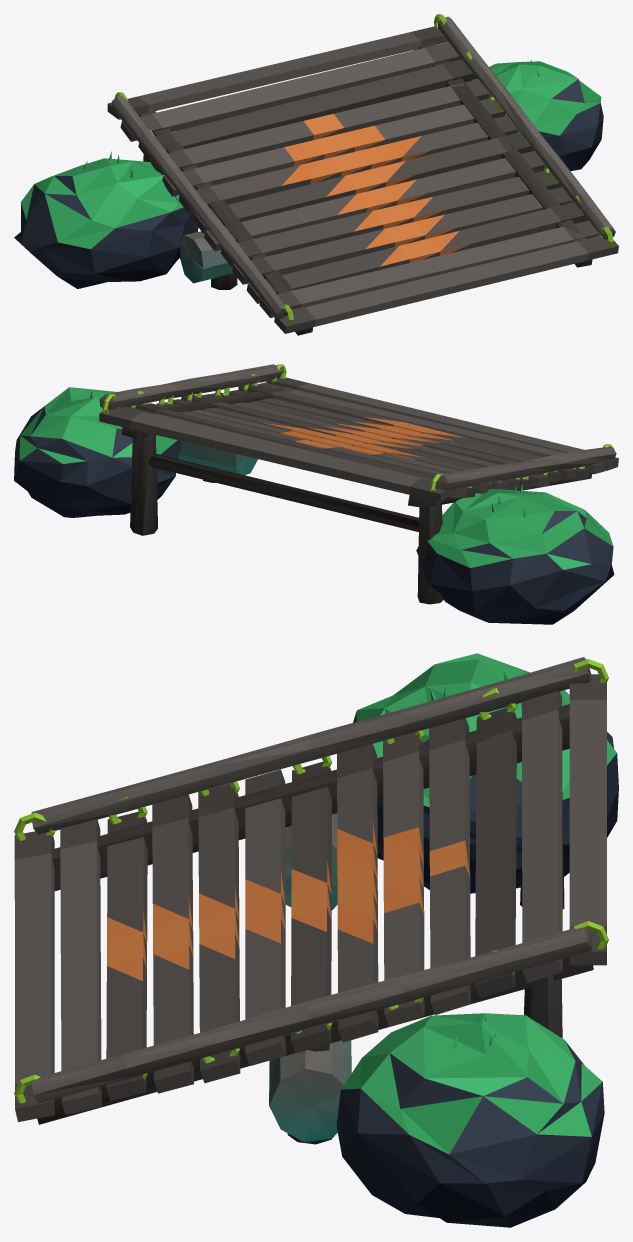
File: riverrush_short_ramp_mossy_414754.glb
The picture shows the model from 3 angles, top to bottom: view 1: azimuth 30°, elevation 25°; view 2: azimuth 150°, elevation 25°; view 3: azimuth 270°, elevation 25°; orthographic projection. The views are drawn at different scales.
Visible parts, largest first — view 1: Tanjakan_Jumping_Pendek; view 2: Tanjakan_Jumping_Pendek; view 3: Tanjakan_Jumping_Pendek.
Part boxes in pixels (x1,y1,x2,y2): Tanjakan_Jumping_Pendek: [14, 14, 618, 335]; Tanjakan_Jumping_Pendek: [14, 364, 618, 624]; Tanjakan_Jumping_Pendek: [14, 653, 618, 1227].
Size of the model in its own units: 9.65 by 2.42 by 5.25.
